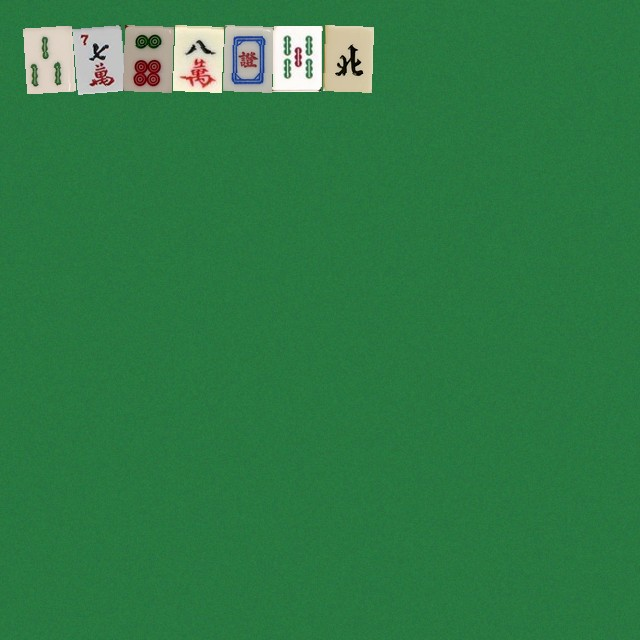tile: (22, 25, 71, 91), (72, 25, 121, 91), (122, 25, 171, 91), (172, 25, 221, 91), (222, 25, 271, 91), (272, 25, 321, 91), (322, 25, 371, 91)
